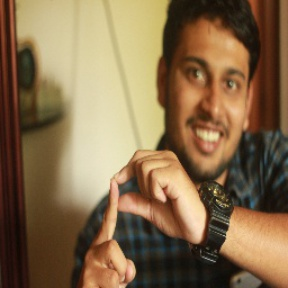P: (74, 144, 195, 288)
